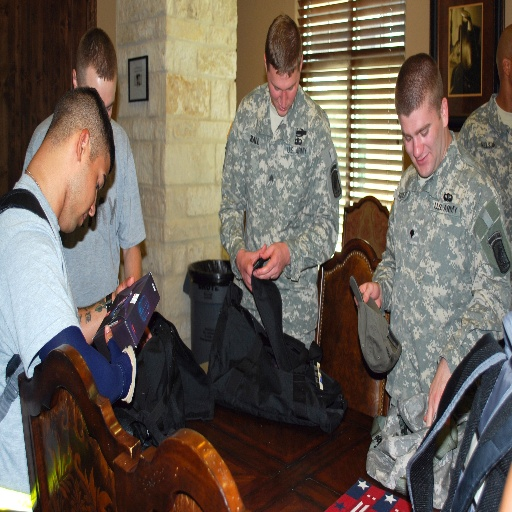hand: (111, 272, 154, 349), (422, 361, 451, 430), (253, 238, 294, 284), (236, 243, 267, 295), (353, 279, 382, 311), (103, 322, 113, 348)
